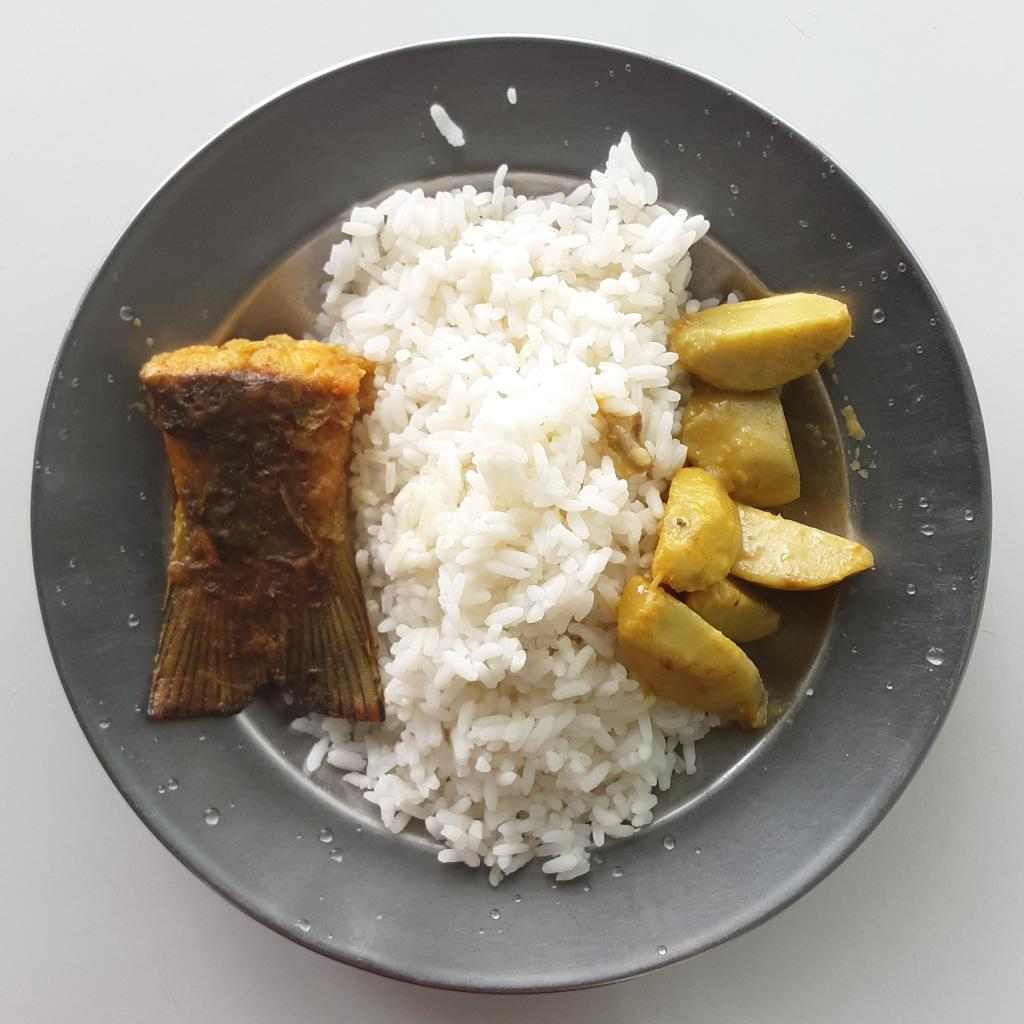fish: (138, 333, 379, 719)
kochu: (617, 291, 877, 724)
rice: (280, 130, 740, 890)
